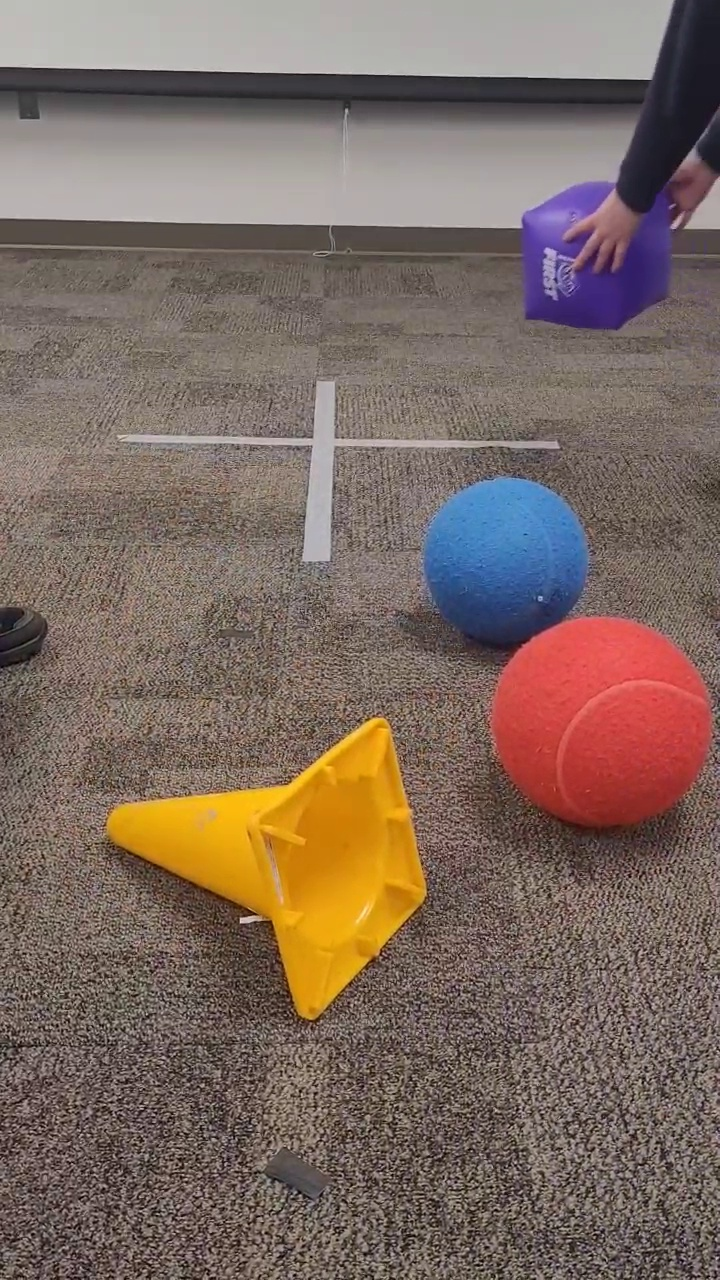ball: (486, 613, 713, 832), (421, 473, 592, 645)
cone: (103, 712, 431, 1024)
cube: (517, 179, 675, 338)
foot: (1, 601, 51, 675)
hand: (558, 188, 648, 278), (658, 141, 714, 229)
